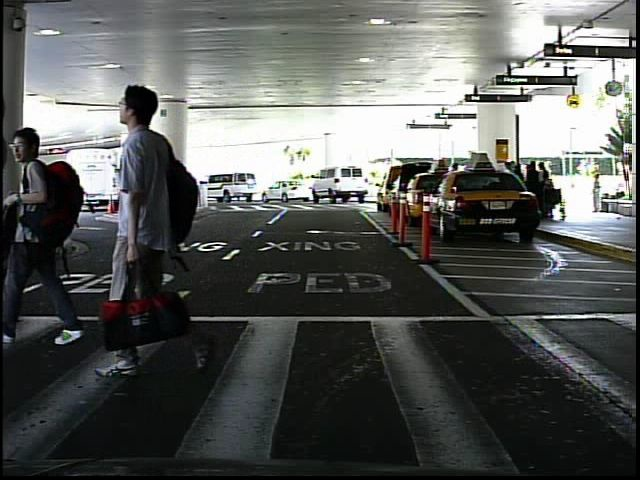person: (97, 75, 214, 391), (10, 114, 89, 352), (51, 171, 70, 221), (588, 171, 607, 217)
